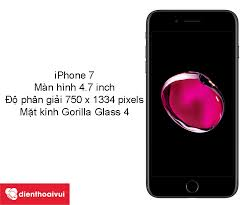iphone: (144, 6, 236, 198)
iphone7: (146, 7, 238, 199)
